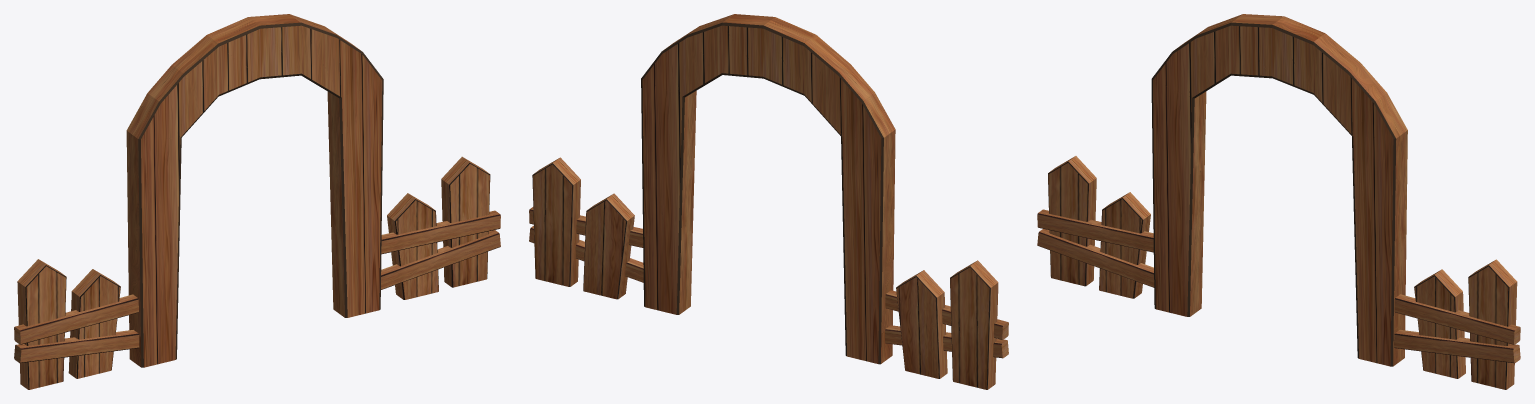
File: Valla2.fbx
3 renders of one model, left to right at view 1: azimuth 30°, elevation 25°; view 2: azimuth 150°, elevation 25°; view 3: azimuth 330°, elevation 25°, orthographic.
Visible parts, largest first — view 1: Cube.004; view 2: Cube.004; view 3: Cube.004.
Part boxes in pixels (box(x1,y1,x2,y2)): Cube.004: box(14, 14, 500, 389); Cube.004: box(529, 14, 1008, 389); Cube.004: box(1037, 14, 1520, 389).
Bounding box in the file's own units: 429 × 267 × 20.72.
Materials: 1 (1 with a texture image).
